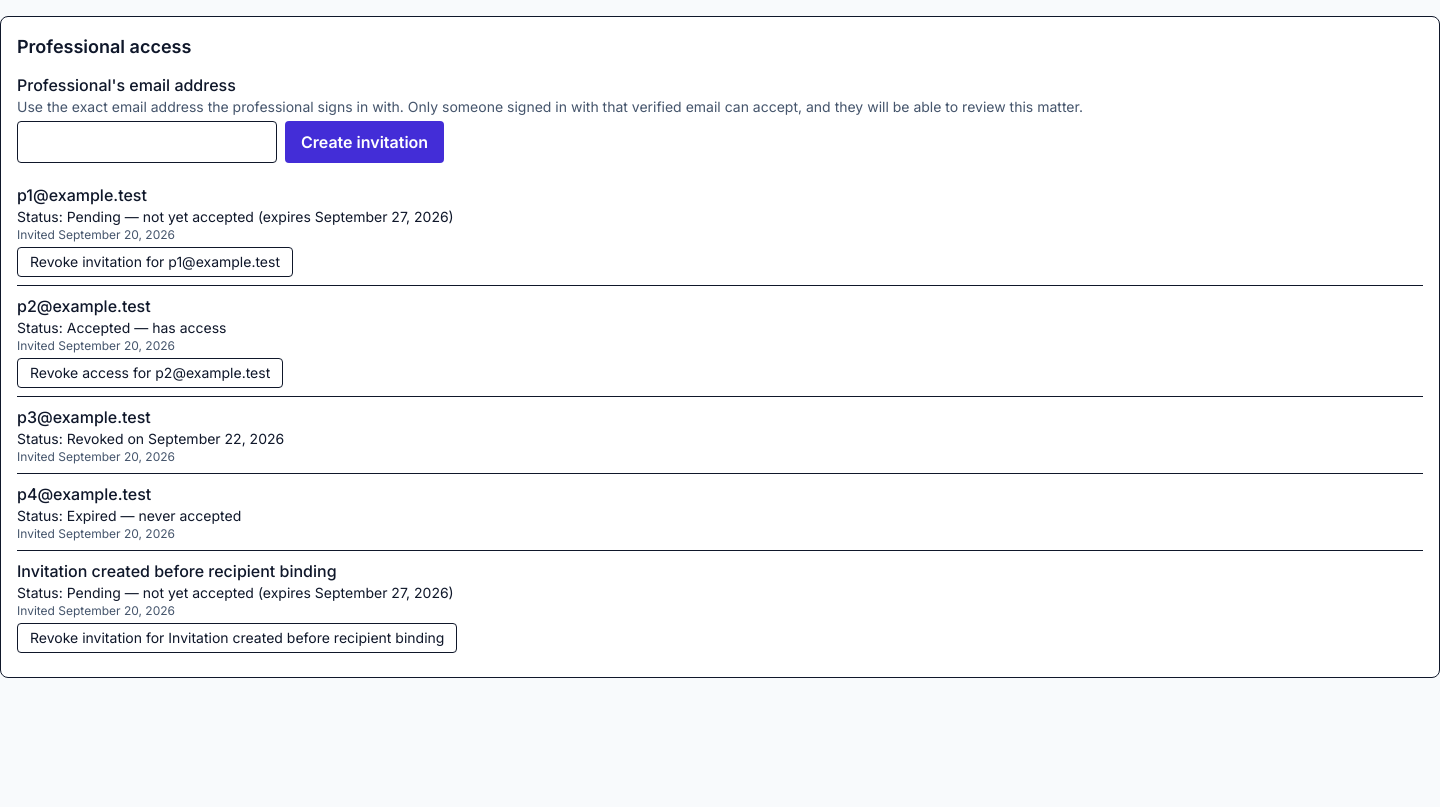
it: Stage 10 slice 8: ProfessionalAccessPanel › a blocked clipboard selects the link and says how to copy it
The image size is (1440, 807).
In the field labelled "Professional's email address": (147, 142) [17,121,277,163], type "a@b.test"
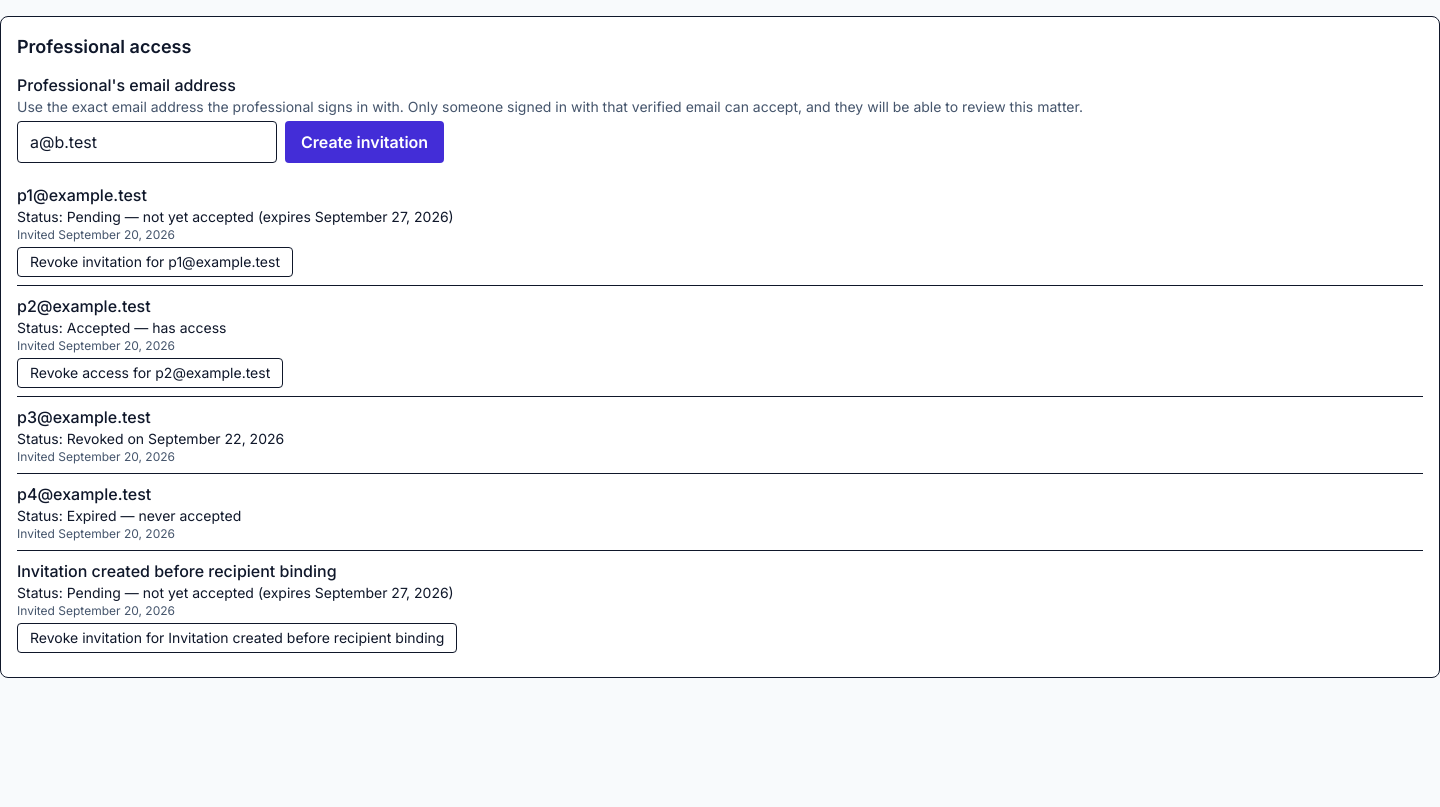
Click the button "Create invitation": (365, 142) [285,121,444,163]
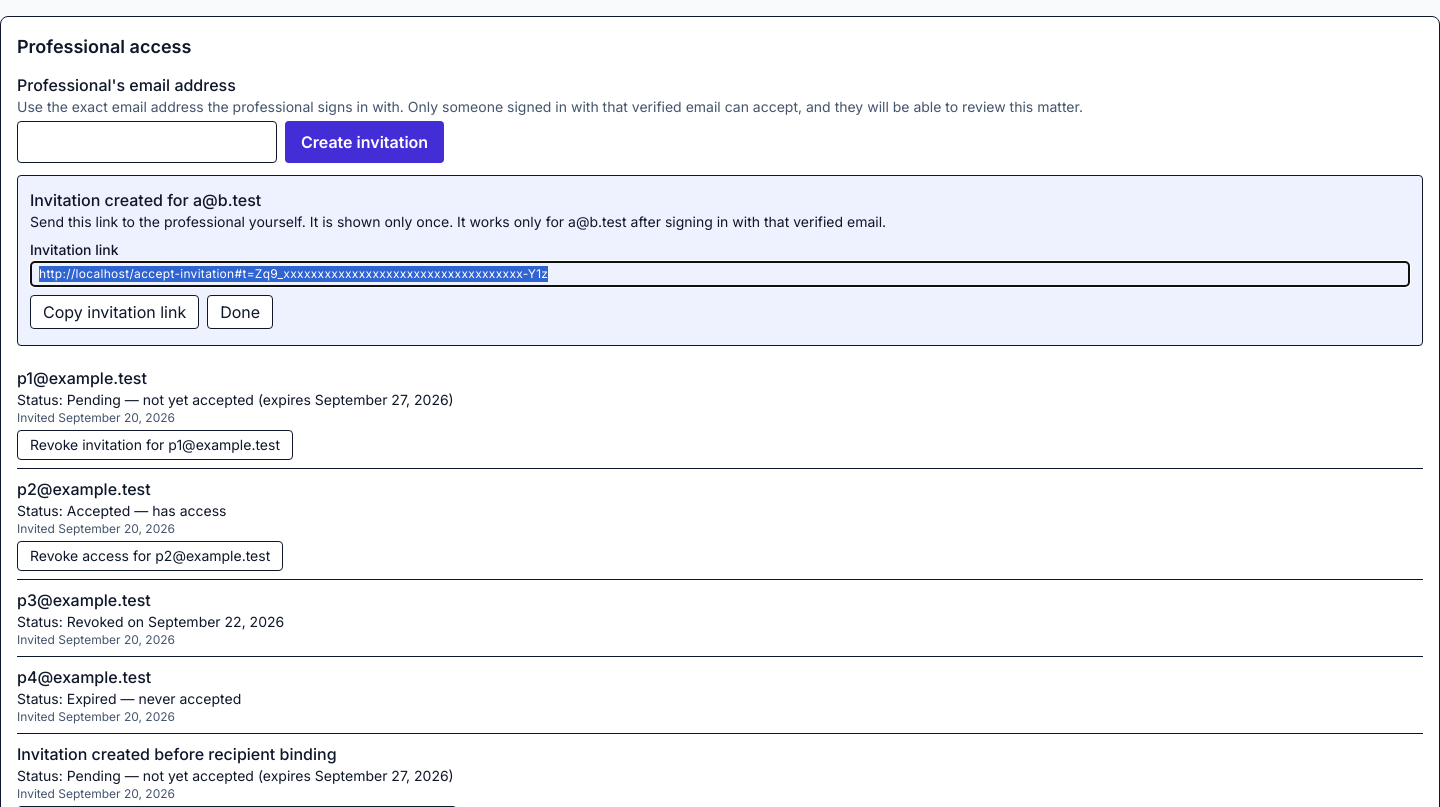
Click the button "Copy invitation link": (115, 312) [30,295,199,329]
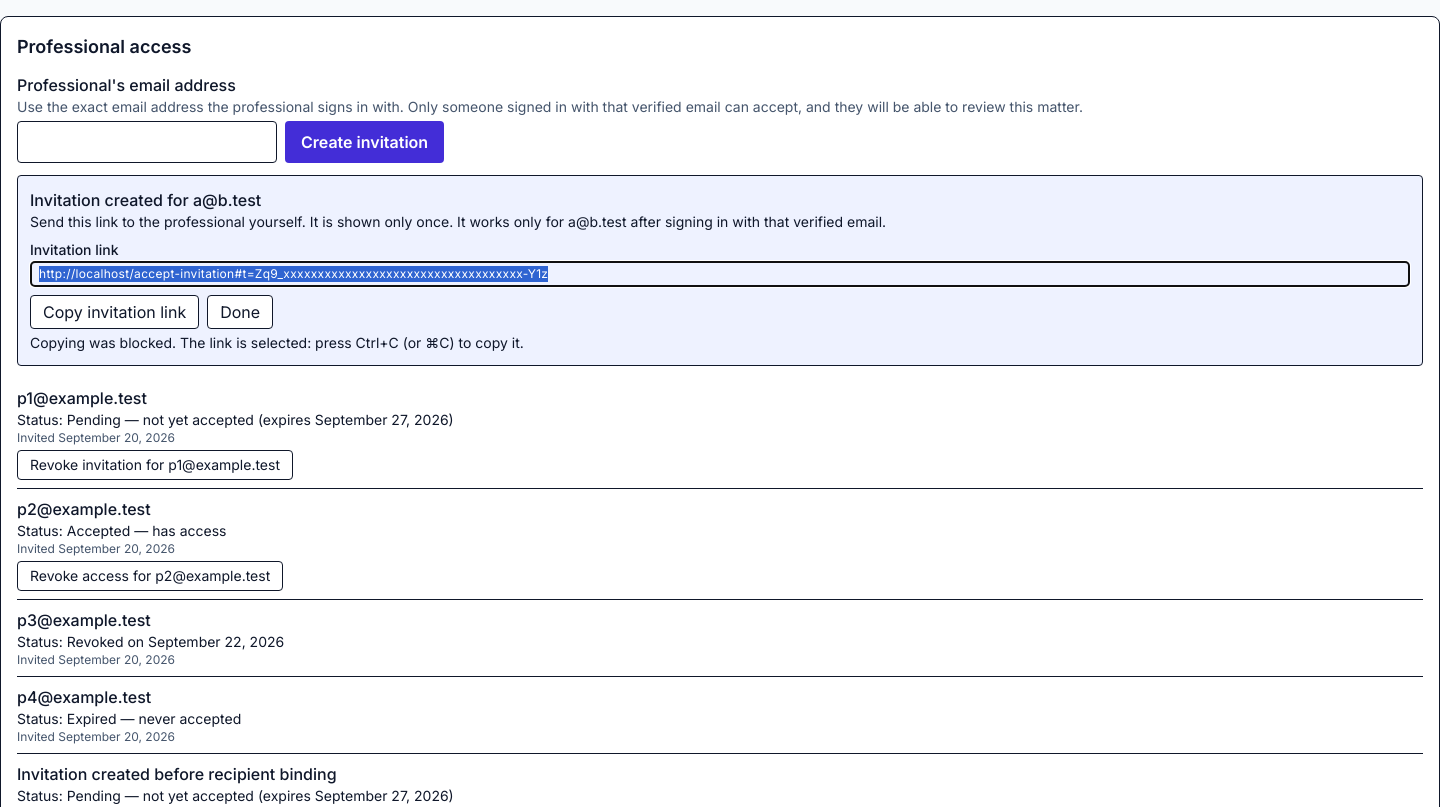
Check: the text "Copying was blocked. The link is selected: press Ctrl+C (or ⌘C) to copy it." is shown, box [30,334,524,351]
